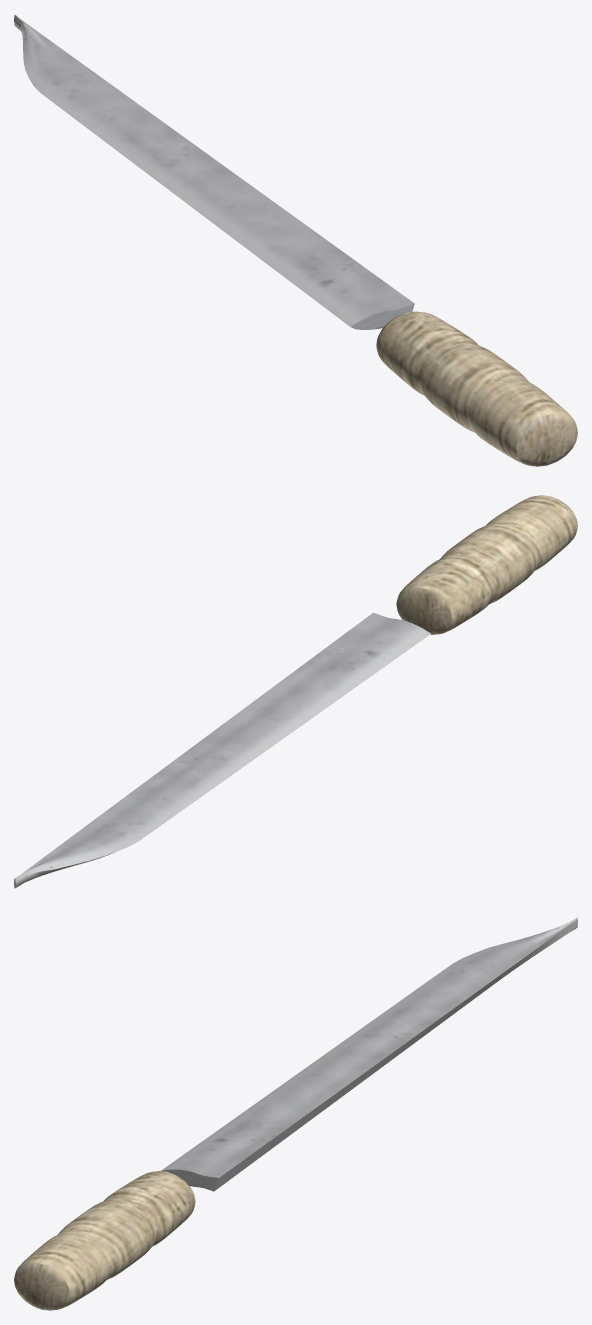
The model's file is narrow_seax.glb.
3 views of the same model, one above another, from view 1: azimuth 30°, elevation 25°; view 2: azimuth 150°, elevation 25°; view 3: azimuth 330°, elevation 25° (orthographic). The views are drawn at different scales.
Parts seen in each view (by area): view 1: narrow_seax; view 2: narrow_seax; view 3: narrow_seax.
Boxes of the visible parts, box(x1,y1,x2,y2) form: narrow_seax: box(14, 15, 577, 466); narrow_seax: box(14, 495, 577, 888); narrow_seax: box(14, 917, 577, 1310).
Bounding box in the file's own units: 0.0331 × 0.0258 × 0.4259.
1 material, 1 textured.
